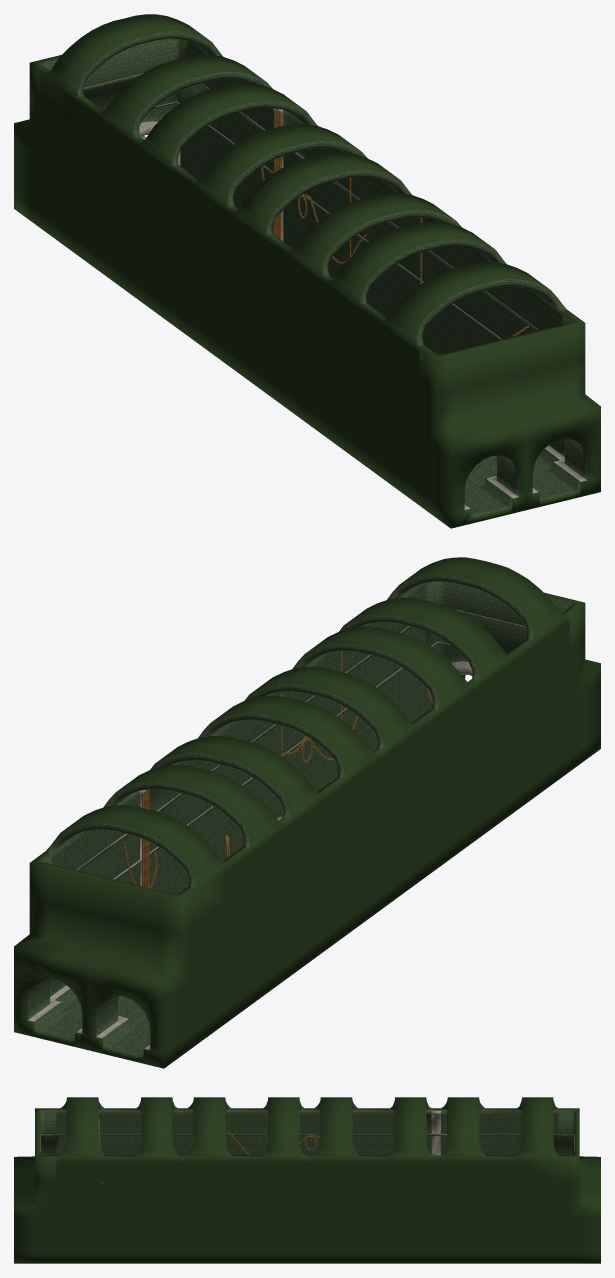
File: SewerModule_BigRoomWithAdapter_2.fbx
The picture shows the model from 3 angles, top to bottom: view 1: azimuth 30°, elevation 25°; view 2: azimuth 150°, elevation 25°; view 3: azimuth 270°, elevation 25°; orthographic projection. The views are drawn at different scales.
Visible parts, largest first — view 1: Big_Start.003; view 2: Big_Start.003; view 3: Big_Start.003.
Part boxes in pixels (bbox=[...]): Big_Start.003: bbox=[14, 14, 600, 528]; Big_Start.003: bbox=[14, 557, 600, 1068]; Big_Start.003: bbox=[14, 1097, 600, 1263].
Size of the model in its own units: 2246 by 2778 by 11100.
